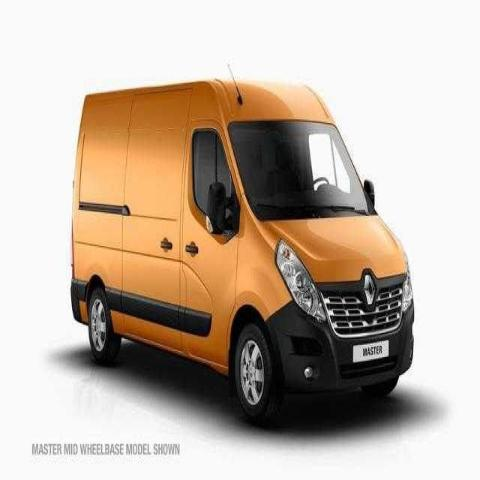van: (71, 80, 416, 428)
